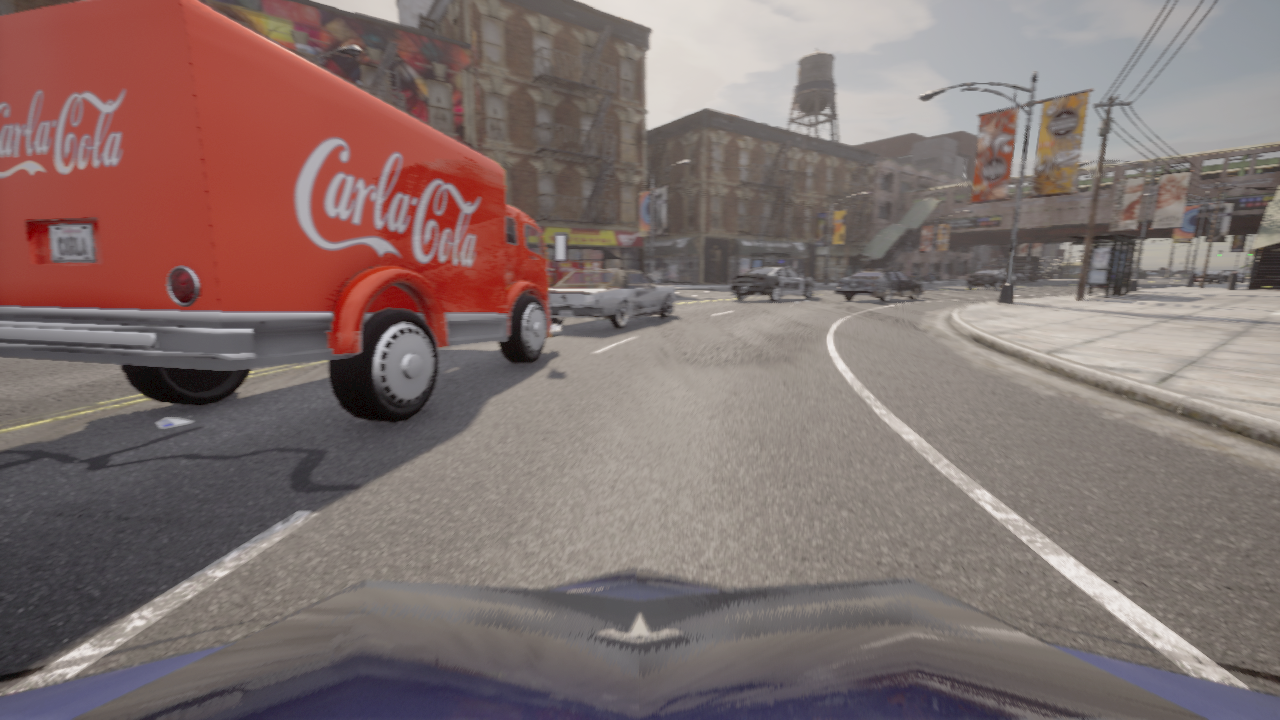cyclist: (0, 0, 568, 422), (0, 569, 1279, 719), (549, 270, 676, 328), (731, 264, 814, 301), (835, 269, 924, 302), (967, 268, 1015, 289), (1200, 271, 1230, 283), (1221, 269, 1242, 282), (1190, 273, 1201, 286), (1012, 273, 1026, 282), (980, 267, 1005, 271), (1024, 274, 1038, 281), (1240, 272, 1241, 273)
